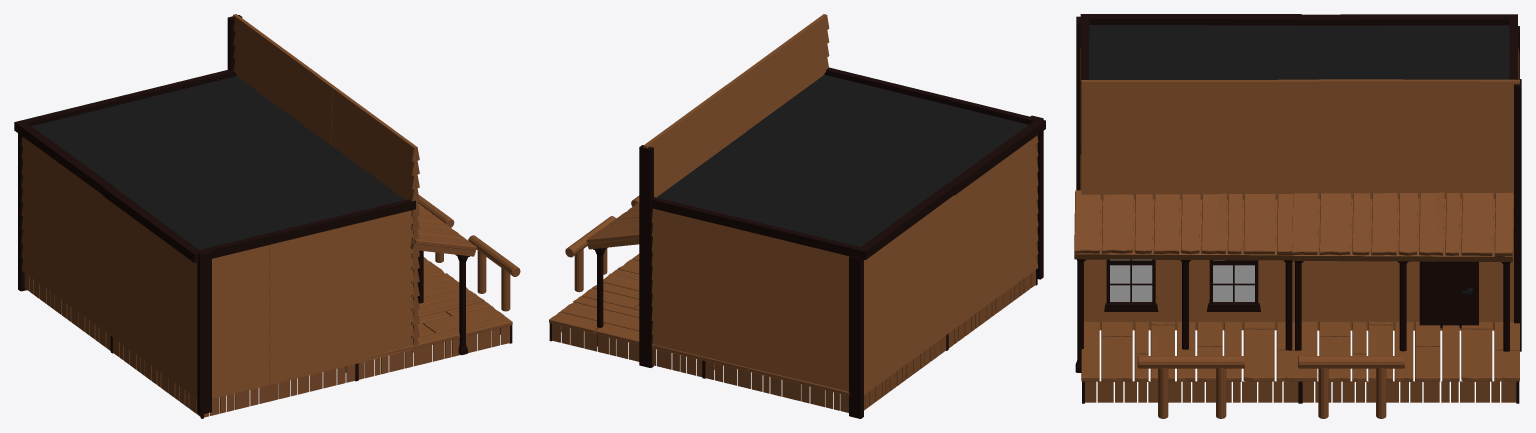
Rendered from casa1.obj.
3 views of the same model, side by side, from view 1: azimuth 30°, elevation 25°; view 2: azimuth 150°, elevation 25°; view 3: azimuth 270°, elevation 25° (orthographic). The views are drawn at different scales.
Visible parts, largest first — view 1: Wall_A.119; view 2: Wall_A.119; view 3: Wall_A.119.
Boxes of the visible parts, x1,y1,x2,y2 form: Wall_A.119: (14,14,520,418); Wall_A.119: (549,14,1045,418); Wall_A.119: (1074,14,1521,418).
Size of the model in its own units: 7.3 by 4.43 by 6.68.
